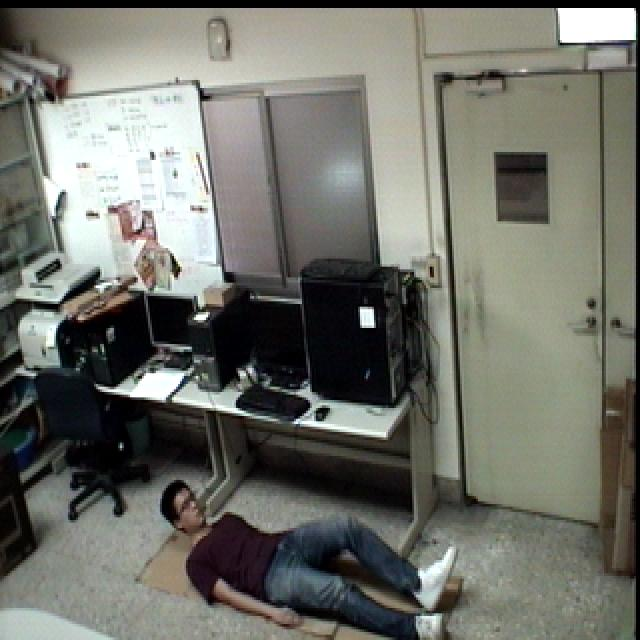lie: (151, 464, 468, 640)
